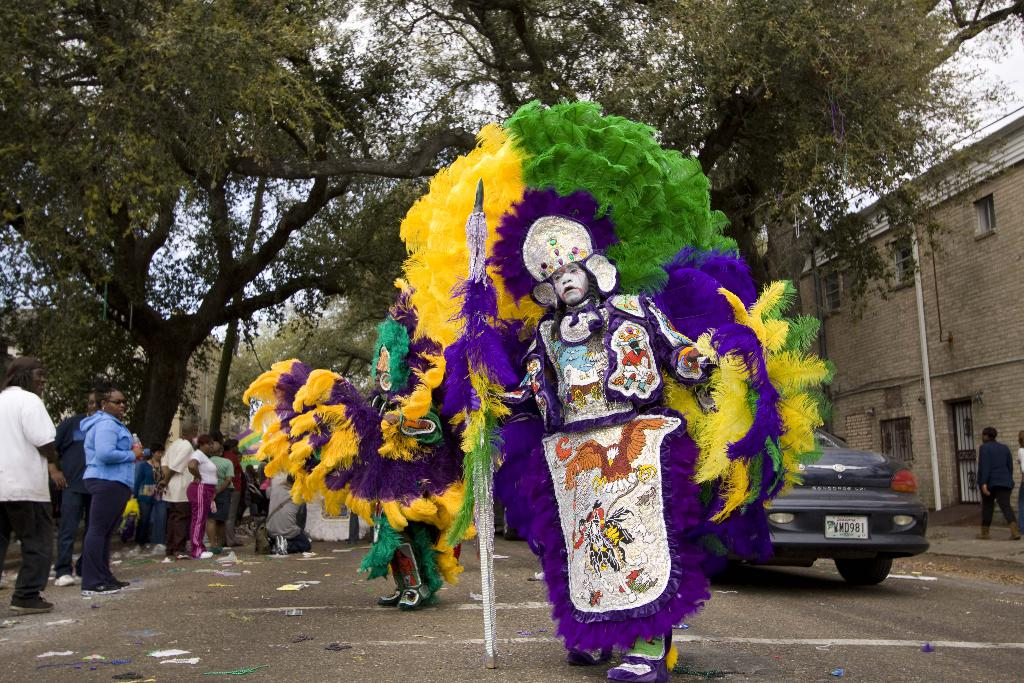Car: (707, 421, 929, 587)
